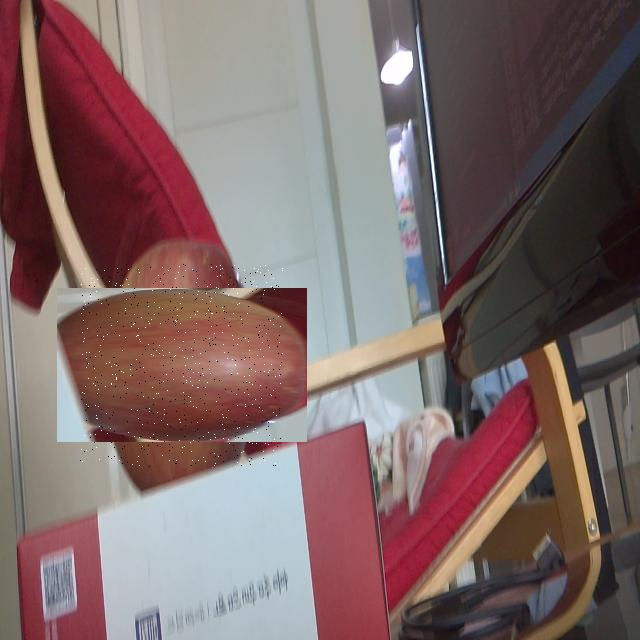apple: (80, 264, 283, 467)
